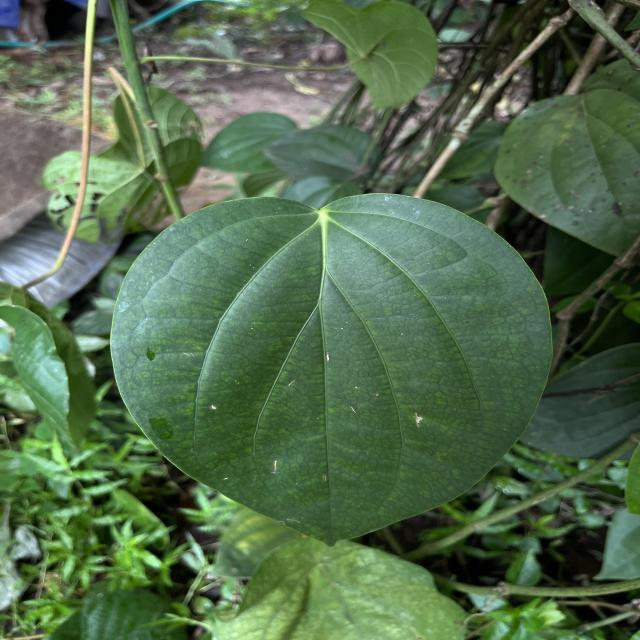Piper nigrum: (107, 190, 556, 548)
